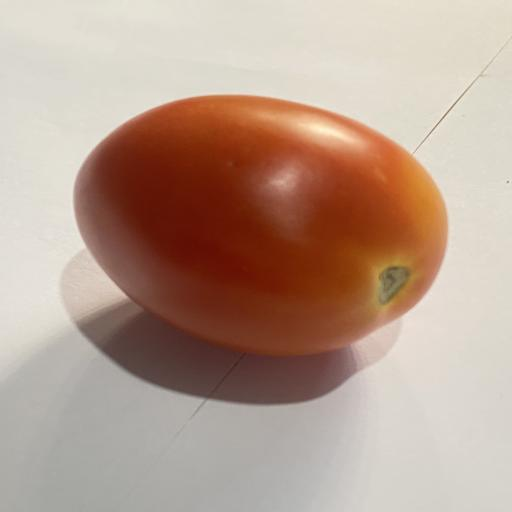ripe: (74, 95, 447, 355)
